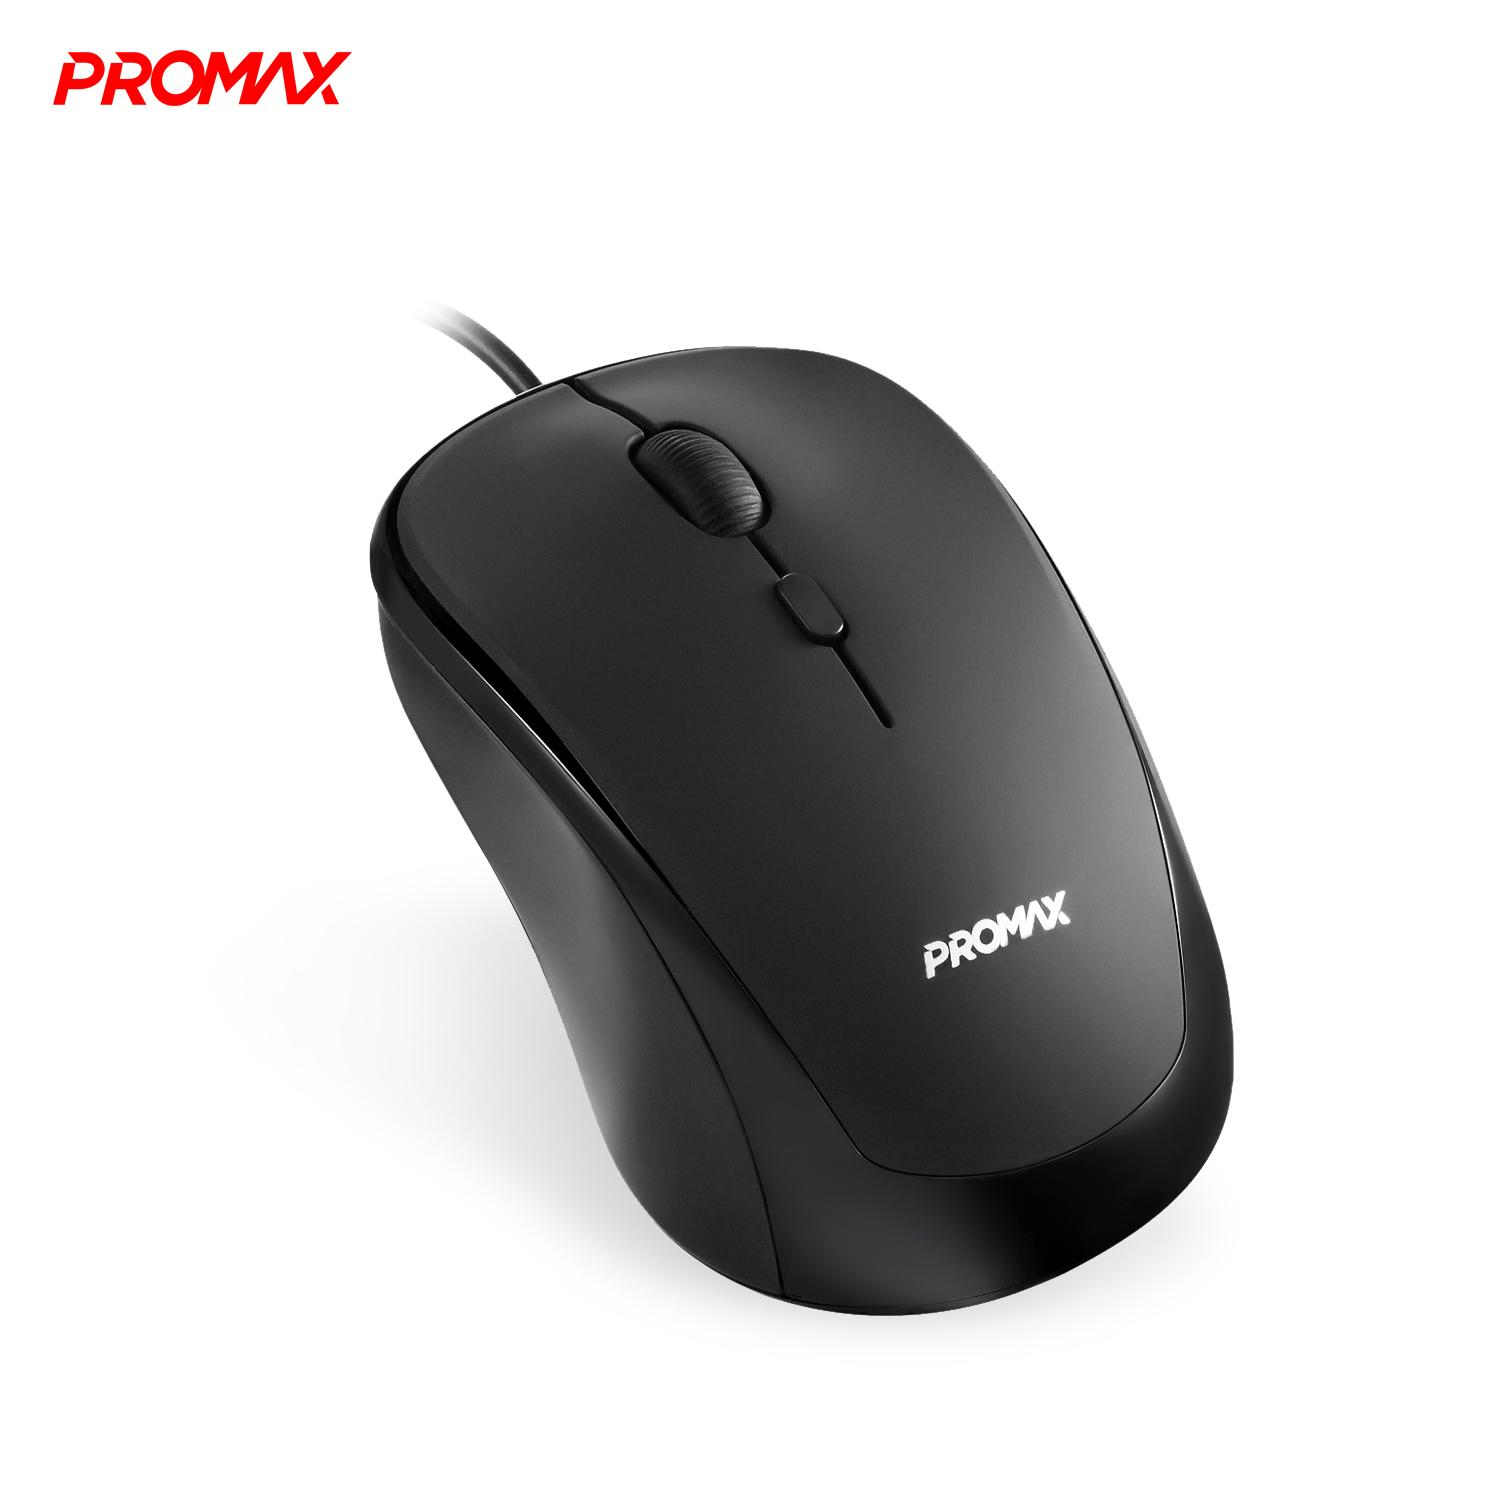Mouse: (342, 308, 1242, 1321)
